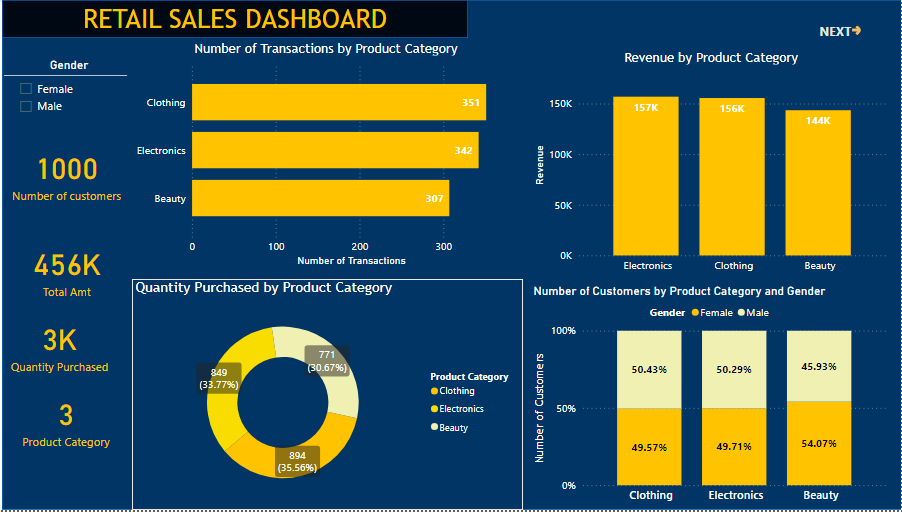

The dashboard page shown, as its layout file describes it:
{"tool":"powerbi","page":{"name":"DAshboard","canvas":[1280,720],"ordinal":0},"visuals":[{"type":"shape","box":[10.1,0,1269.9,719.7],"z":0},{"type":"shape","box":[10.1,0,657.6,68.8],"z":1000},{"type":"card","fields":{"Values":["Count(retail.Customer ID)"]},"box":[10.1,68.8,171.1,105.7],"z":2000},{"type":"card","fields":{"Values":["Count(retail.Product Category)"]},"box":[10.1,412.7,182.9,105.7],"z":3000},{"type":"card","fields":{"Values":["Sum(retail.Quantity)"]},"box":[10.1,307,179.5,105.7],"z":4000},{"type":"card","fields":{"Values":["Sum(retail.Total Amount)"]},"box":[10.1,199.6,182.9,105.7],"z":5000},{"type":"clusteredBarChart","title":"Number of Transactions by Product Category","fields":{"Category":["retail.Product Category"],"Y":["CountNonNull(retail.Transaction ID)"]},"box":[189.6,68.8,555.3,325.5],"z":6000},{"type":"clusteredColumnChart","fields":{"Category":["retail.Product Category"],"Y":["Sum(retail.Total Amount)"]},"box":[754.9,68.8,511.7,325.5],"z":7000},{"type":"donutChart","title":"Quantity Purchased by Product Category","fields":{"Category":["retail.Product Category"],"Y":["Sum(retail.Quantity)"]},"box":[192.9,394.2,551.9,325.5],"z":8000},{"type":"hundredPercentStackedColumnChart","fields":{"Category":["retail.Product Category"],"Series":["retail.Gender"],"Y":["CountNonNull(retail.Customer ID)"]},"box":[754.9,400.9,511.7,318.7],"z":9000},{"type":"actionButton","box":[1125.7,11.7,140.9,57],"z":10000}]}

Visuals, with their boxes in screenshot pixels (x1, y1, x2, y2), scaled from the page's 1280x720 canvas onto the 902x512 screenshot:
shape: (x1=7, y1=0, x2=901, y2=511)
shape: (x1=7, y1=0, x2=471, y2=49)
card - Count(retail.Customer ID): (x1=7, y1=49, x2=128, y2=124)
card - Count(retail.Product Category): (x1=7, y1=293, x2=136, y2=369)
card - Sum(retail.Quantity): (x1=7, y1=218, x2=134, y2=293)
card - Sum(retail.Total Amount): (x1=7, y1=142, x2=136, y2=217)
"Number of Transactions by Product Category" clusteredBarChart: (x1=134, y1=49, x2=525, y2=280)
clusteredColumnChart - retail.Product Category x Sum(retail.Total Amount): (x1=532, y1=49, x2=893, y2=280)
"Quantity Purchased by Product Category" donutChart: (x1=136, y1=280, x2=525, y2=511)
hundredPercentStackedColumnChart - retail.Product Category x retail.Gender: (x1=532, y1=285, x2=893, y2=511)
actionButton: (x1=793, y1=8, x2=893, y2=49)
